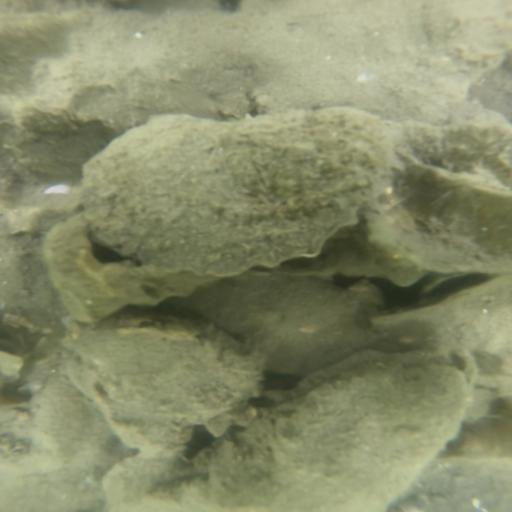Oyster-Closed: (80, 110, 401, 282), (61, 329, 252, 448), (186, 276, 374, 376), (406, 154, 512, 211)
Oyster-Open: (205, 349, 481, 504)
